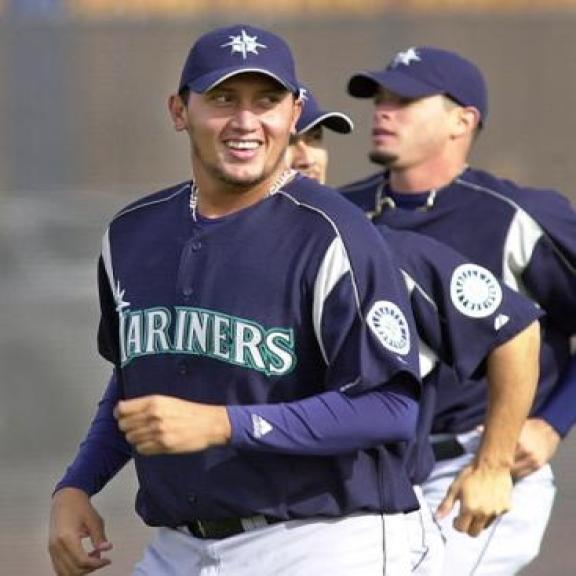face: (165, 73, 306, 186), (370, 80, 478, 169)
